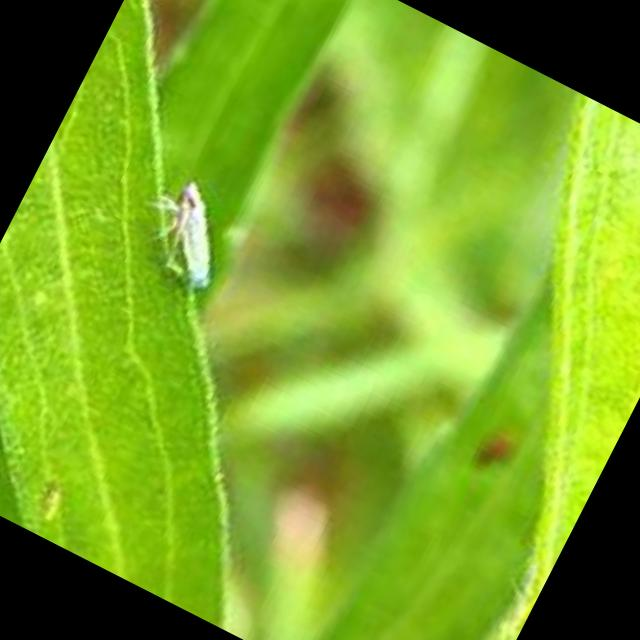green-leafhopper: (117, 164, 246, 298)
